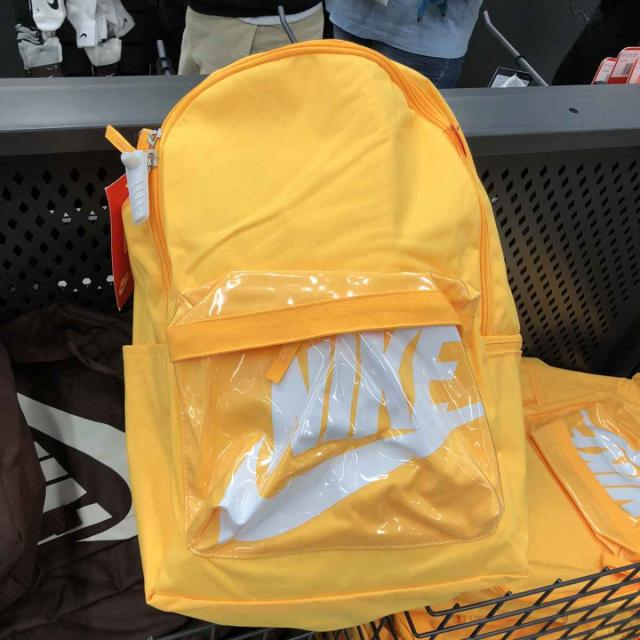Handbag: (122, 42, 583, 640)
